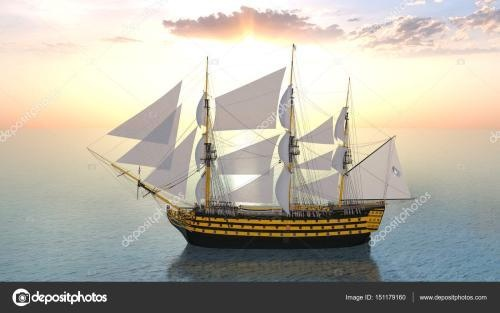fanchuan: (81, 42, 422, 246)
